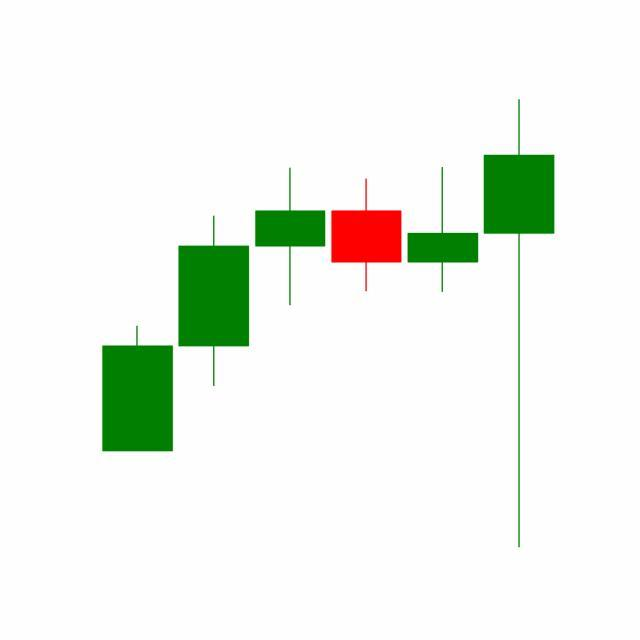Spinning Top: (404, 166, 482, 294)
